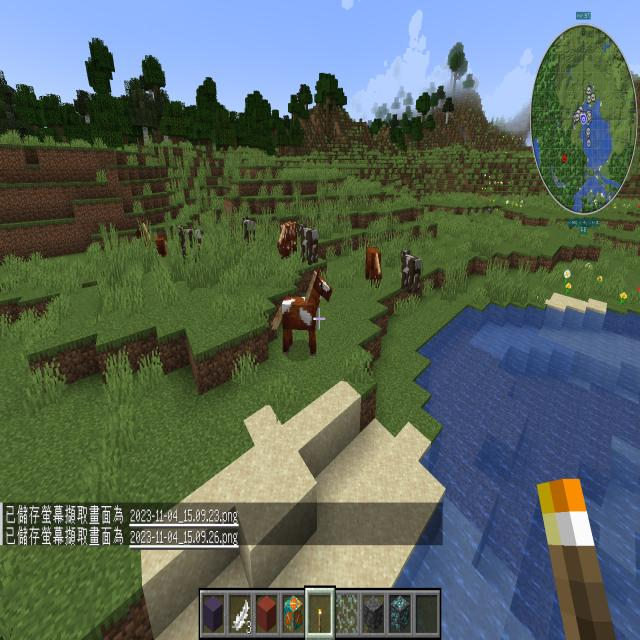cow: (395, 238, 428, 307), (173, 215, 210, 271), (293, 217, 328, 269), (275, 213, 301, 272), (238, 211, 263, 263)
